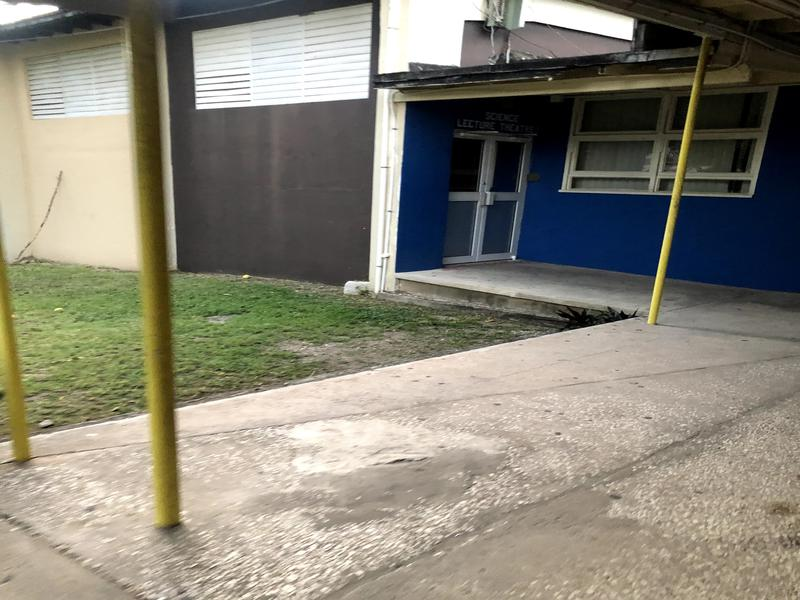18.0051836_-76.7497262_pclt1: (428, 119, 548, 289)
